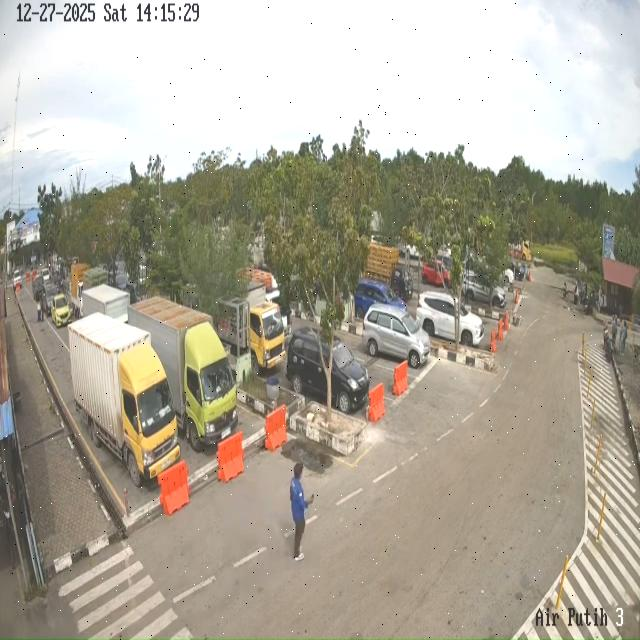Golongan IVA: (286, 327, 370, 414), (362, 304, 430, 369), (416, 291, 484, 347), (354, 279, 406, 320), (463, 272, 506, 308), (422, 259, 450, 287), (51, 294, 71, 328), (41, 281, 58, 316)
Golongan VB: (68, 313, 180, 486), (128, 297, 238, 451)
